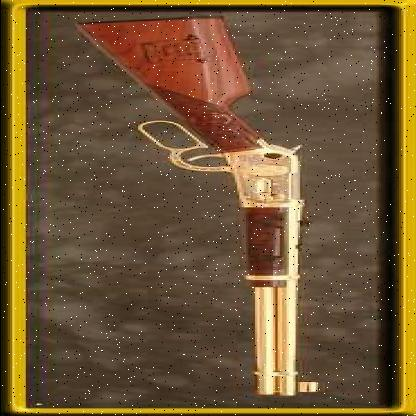rifle: (58, 9, 366, 401)
